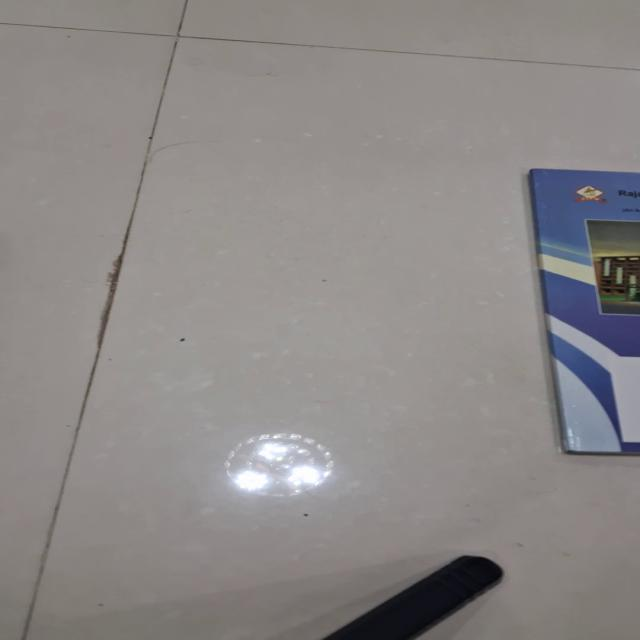paper: (527, 168, 639, 455)
